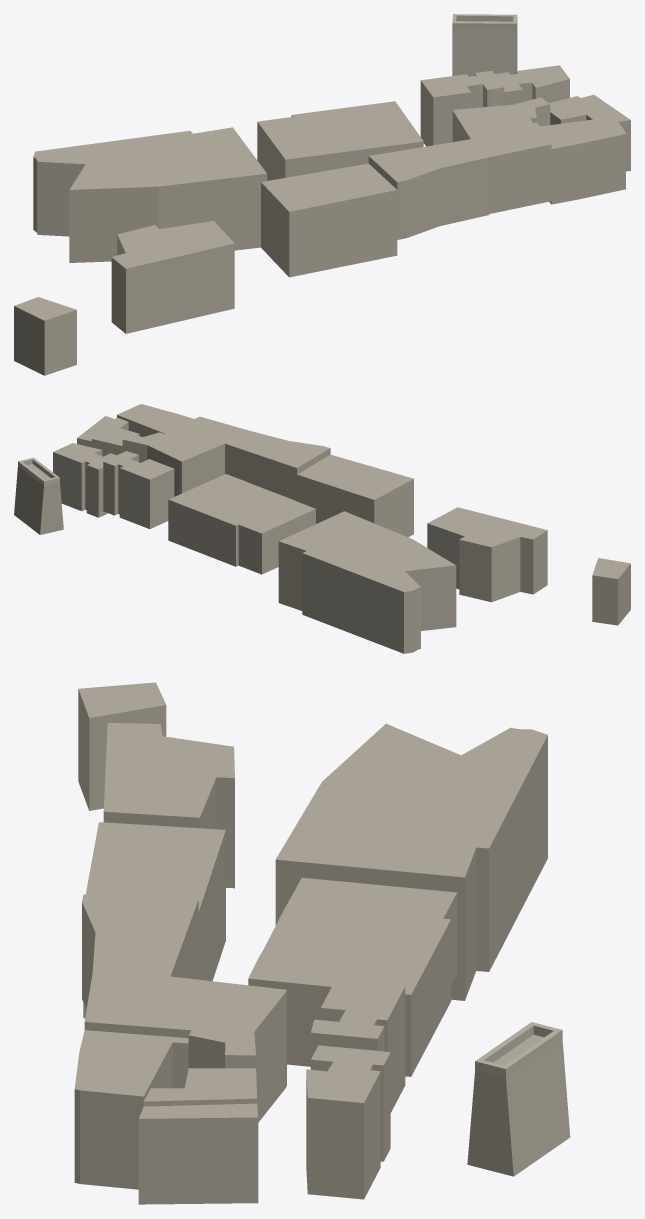
Rendered from bormla_61_25_collision.glb.
The picture shows the model from 3 angles, top to bottom: view 1: azimuth 30°, elevation 25°; view 2: azimuth 150°, elevation 25°; view 3: azimuth 270°, elevation 25°; orthographic projection. The views are drawn at different scales.
Visible parts, largest first — view 1: geometry_0; view 2: geometry_0; view 3: geometry_0.
Boxes of the visible parts, <box> form: geometry_0: <box>14,14,630,375</box>; geometry_0: <box>14,404,630,653</box>; geometry_0: <box>74,682,570,1204</box>.
Bounding box in the file's own units: 132 × 25.18 × 54.76.
